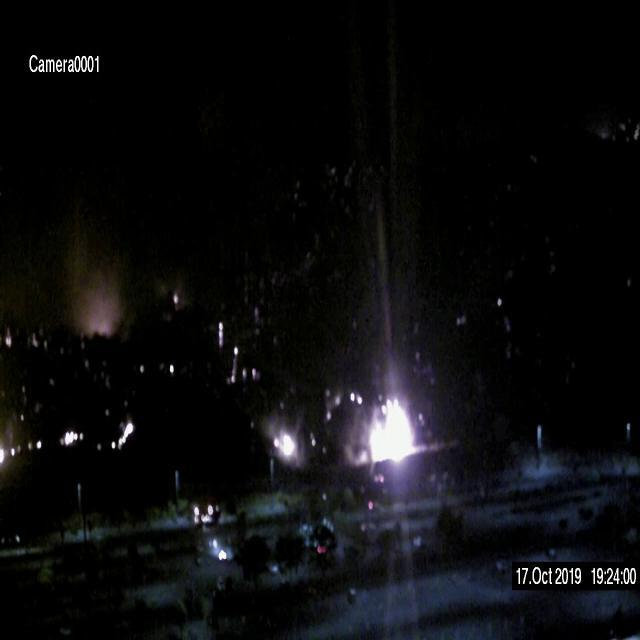Fire: (359, 392, 417, 469), (267, 428, 297, 456)
Smoke: (50, 230, 130, 339)
